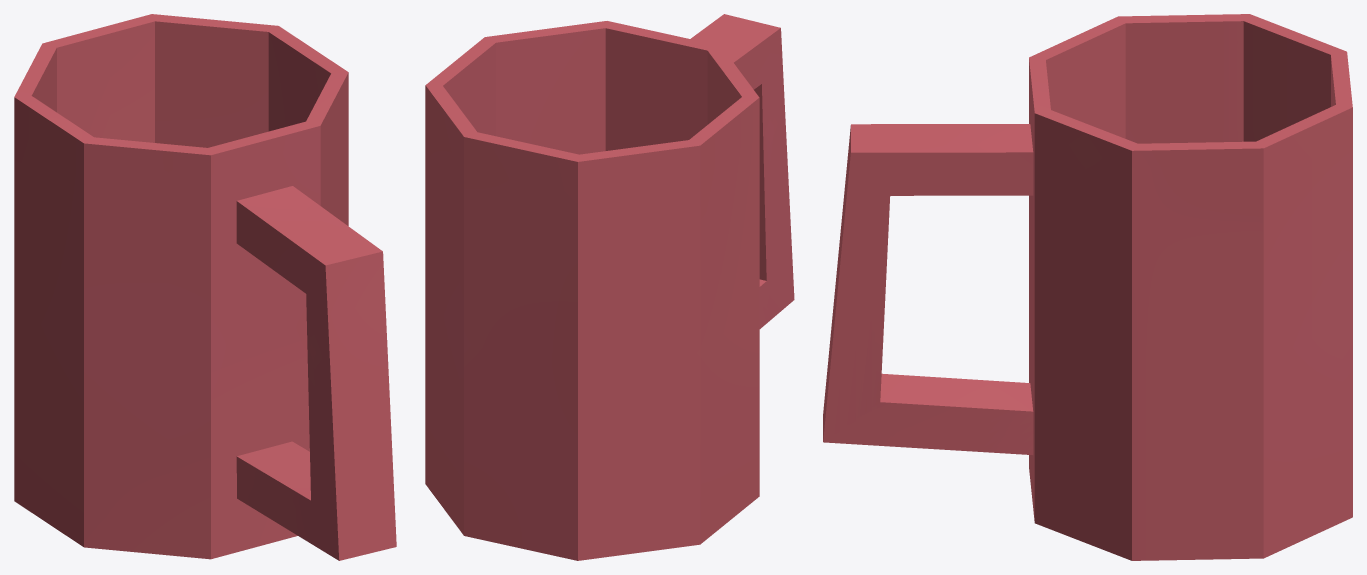
File: Cup_4.fbx
The picture shows the model from 3 angles, left to right: view 1: azimuth 30°, elevation 25°; view 2: azimuth 150°, elevation 25°; view 3: azimuth 270°, elevation 25°; orthographic projection. The views are drawn at different scales.
Visible parts, largest first — view 1: Cup_4; view 2: Cup_4; view 3: Cup_4.
Part boxes in pixels (x1=…): Cup_4: x1=14, y1=14, x2=396, y2=560; Cup_4: x1=425, y1=14, x2=794, y2=560; Cup_4: x1=823, y1=14, x2=1352, y2=560.
Size of the model in its own units: 4.15 by 5.79 by 6.78.
